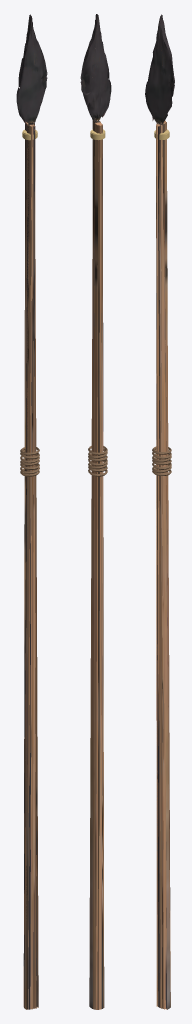
Rendered from weap_germanic_spear_0.glb.
3 views of the same model, side by side, from view 1: azimuth 30°, elevation 25°; view 2: azimuth 210°, elevation 25°; view 3: azimuth 330°, elevation 25° (orthographic).
Visible parts, largest first — view 1: MeshyGear_weap_germanic_spear, Q_LE0_RepairThong; view 2: MeshyGear_weap_germanic_spear, Q_LE0_RepairThong; view 3: MeshyGear_weap_germanic_spear, Q_LE0_RepairThong.
Boxes of the visible parts, x1,y1,x2,y2 form: MeshyGear_weap_germanic_spear: (16, 14, 47, 1009); Q_LE0_RepairThong: (20, 447, 39, 476); MeshyGear_weap_germanic_spear: (80, 14, 111, 1009); Q_LE0_RepairThong: (88, 446, 107, 476); MeshyGear_weap_germanic_spear: (145, 14, 174, 1009); Q_LE0_RepairThong: (152, 446, 171, 475).
Size of the model in its own units: 0.0641 by 2 by 0.0362.
Materials: 3 (1 with a texture image).
